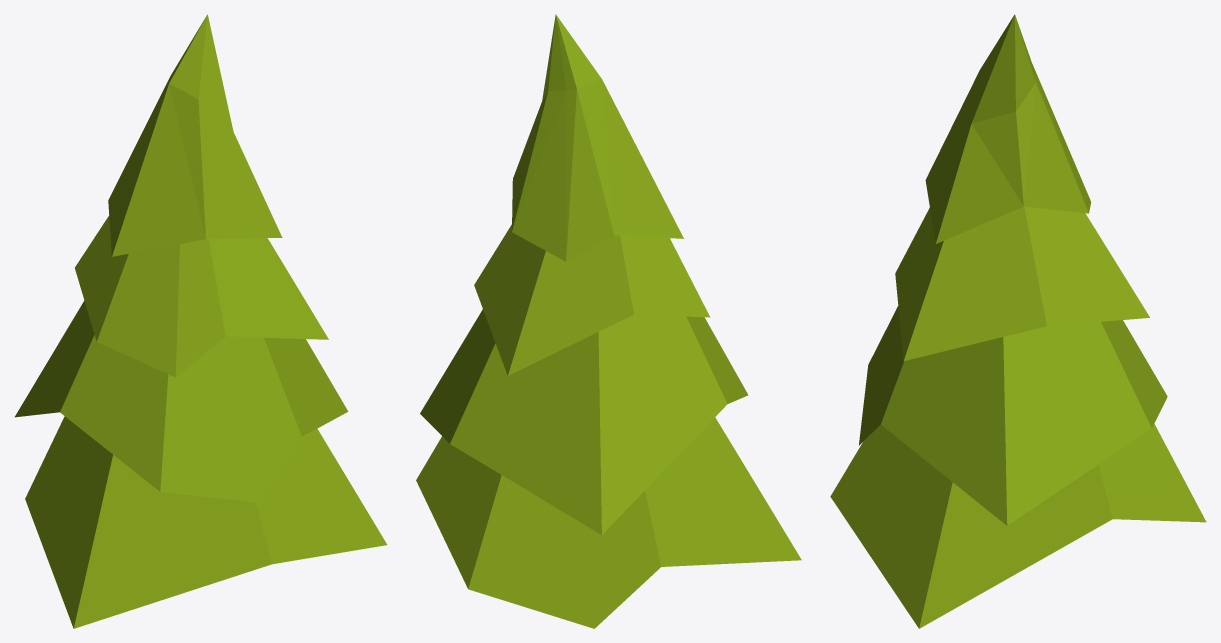
File: Vegetation_Modular_Tree_Foliage_Alpine_01.fbx
3 renders of one model, left to right at view 1: azimuth 30°, elevation 25°; view 2: azimuth 150°, elevation 25°; view 3: azimuth 270°, elevation 25°, orthographic. The views are drawn at different scales.
Parts seen in each view (by area): view 1: Vegetation_Modular_Tree_Foliage_Alpine_01; view 2: Vegetation_Modular_Tree_Foliage_Alpine_01; view 3: Vegetation_Modular_Tree_Foliage_Alpine_01.
Part boxes in pixels (bbox=[...]): Vegetation_Modular_Tree_Foliage_Alpine_01: bbox=[15, 14, 387, 628]; Vegetation_Modular_Tree_Foliage_Alpine_01: bbox=[416, 14, 801, 628]; Vegetation_Modular_Tree_Foliage_Alpine_01: bbox=[830, 14, 1206, 628].
Bounding box in the file's own units: 2429 × 3785 × 2358.
